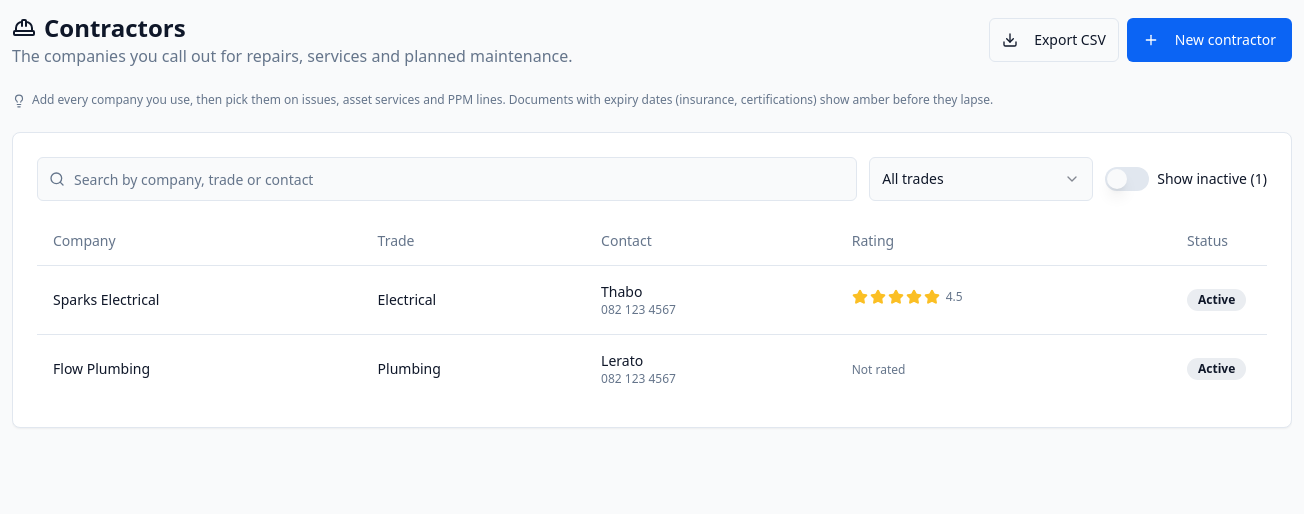
Contractors list › lists active contractors with trade, contact and rating; inactive only on request
Expected: the text "Sparks Electrical" is shown, [53,290,159,308]
Expected: the text "Flow Plumbing" is shown, [53,358,150,378]
Step 1. Click the switch named "Show inactive (1)" → (1127, 179), box [1105,167,1149,191]
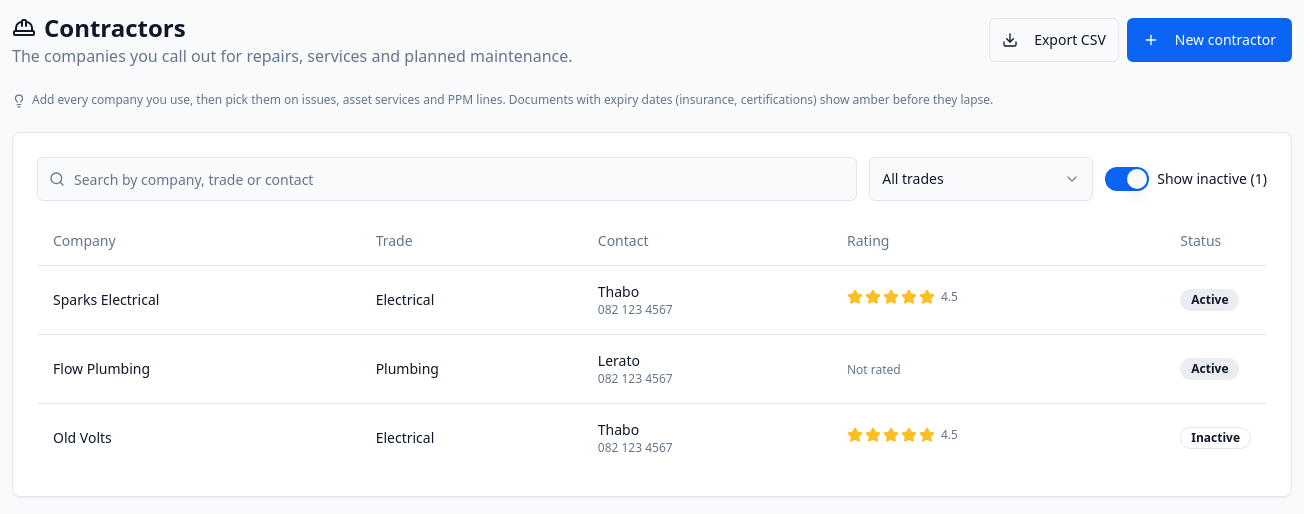
Expected: the text "Old Volts" is shown, [53,428,112,446]
Expected: the text "Inactive" is shown, [1180,426,1251,448]
